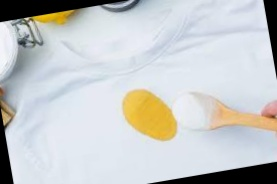mustard: (119, 84, 168, 145), (154, 102, 176, 144), (151, 117, 178, 137)
